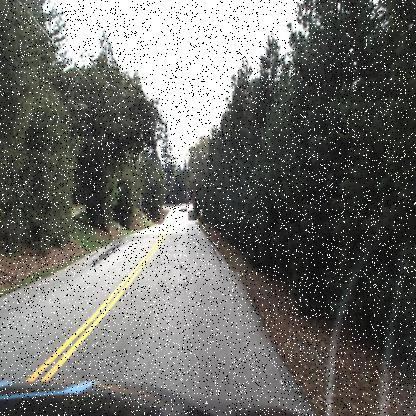car: (178, 197, 189, 217), (178, 198, 189, 216)
